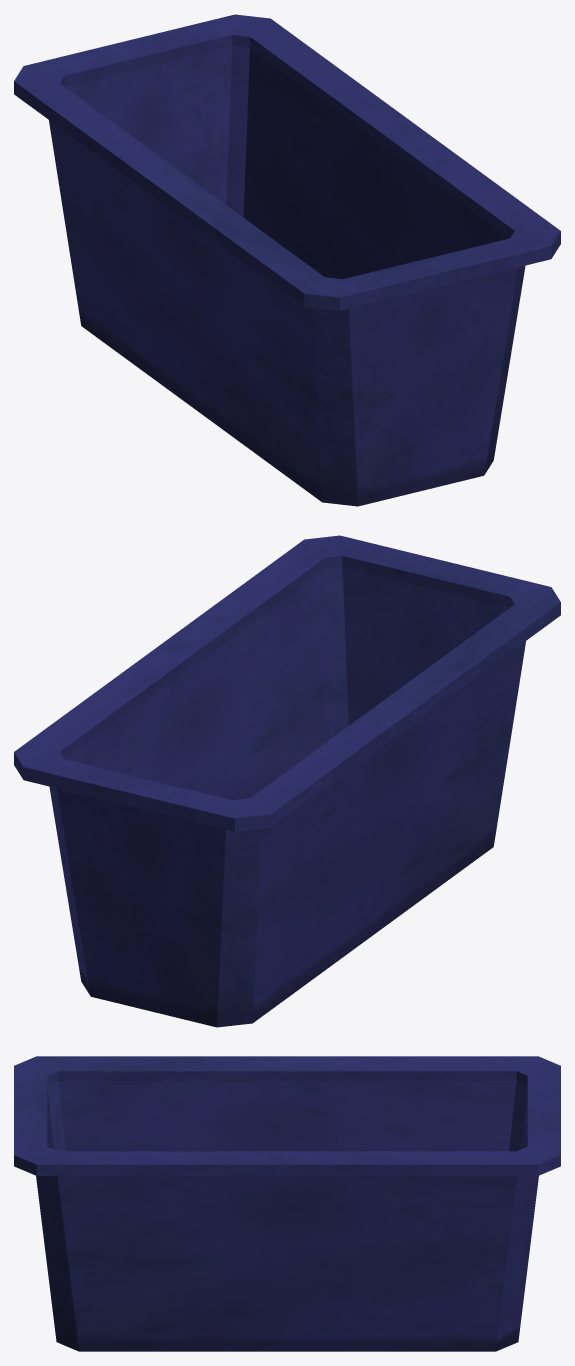
Rendered from wide_ingredient_container.fbx.
3 renders of one model, top to bottom at view 1: azimuth 30°, elevation 25°; view 2: azimuth 150°, elevation 25°; view 3: azimuth 270°, elevation 25°, orthographic. The views are drawn at different scales.
Parts seen in each view (by area): view 1: wide ingredient container; view 2: wide ingredient container; view 3: wide ingredient container.
Part boxes in pixels (<box>): wide ingredient container: <box>14,14,560,506</box>; wide ingredient container: <box>14,535,560,1027</box>; wide ingredient container: <box>14,1056,560,1351</box>.
Bounding box in the file's own units: 0.2697 × 0.5758 × 0.2382.
